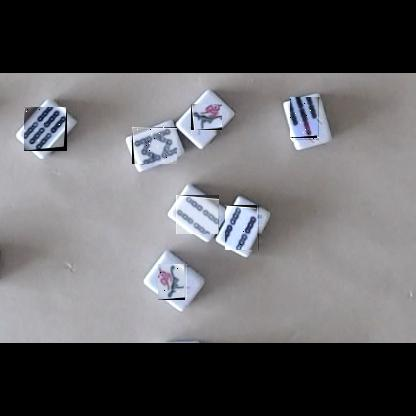1s: (159, 264, 190, 300), (191, 105, 222, 135)
4s: (176, 195, 219, 234), (226, 205, 262, 250)
6s: (24, 107, 67, 151)
7s: (291, 98, 322, 143)
8s: (132, 127, 177, 164)
